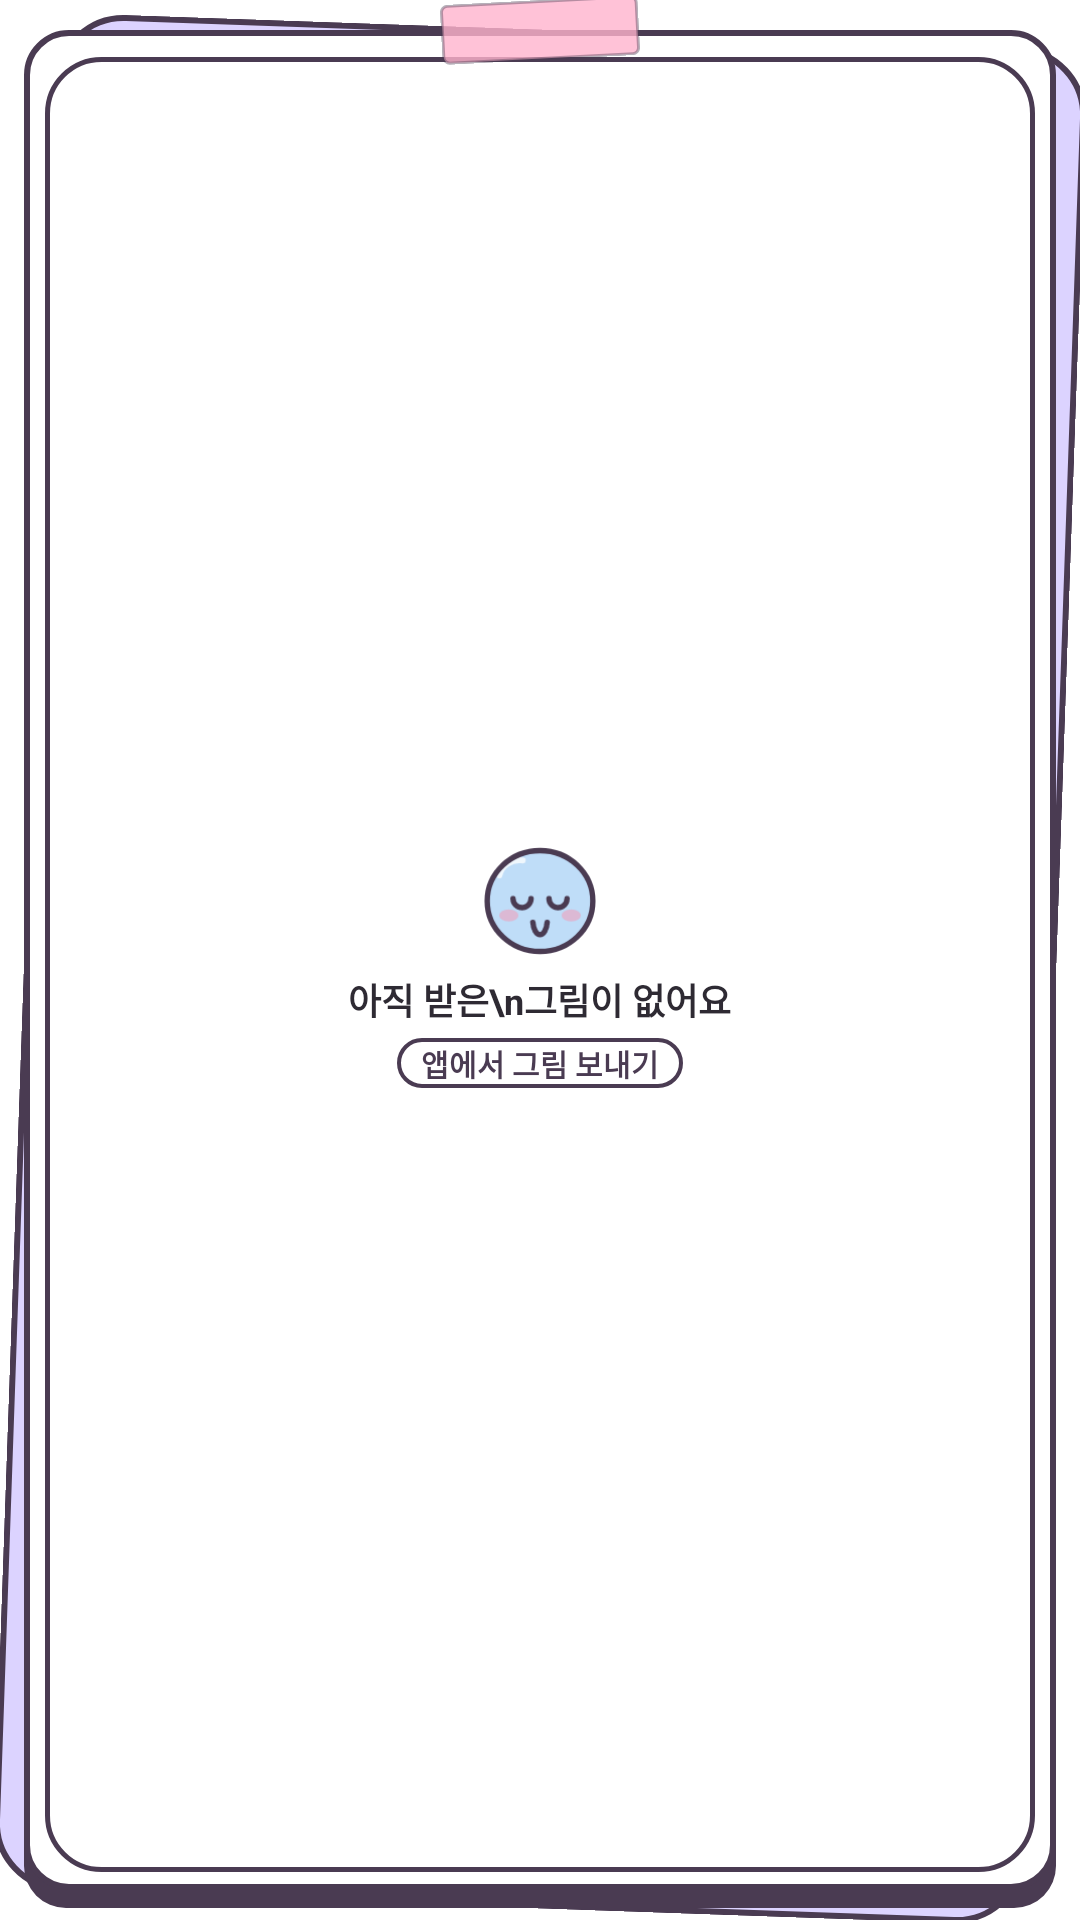

Screen size 1080px×1920px. Icon name, then its box in pixels as rect(x1, y1, x2, y2):
mood face peaceful: rect(484, 847, 596, 955)
